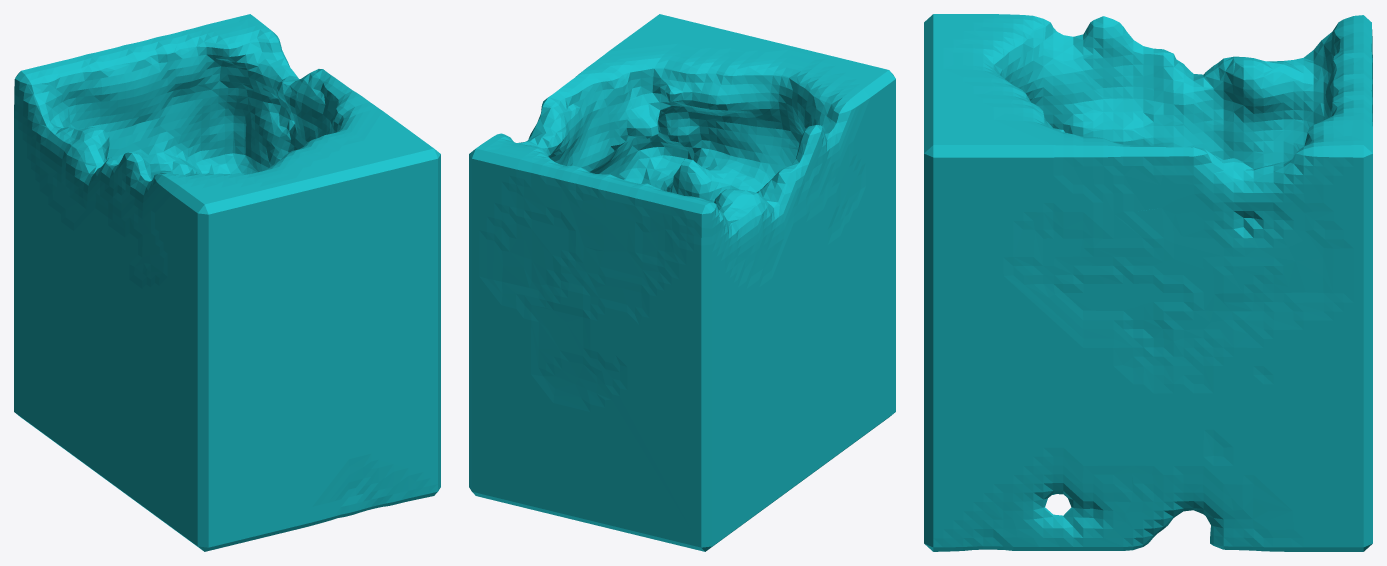
The picture shows the model from 3 angles, left to right: view 1: azimuth 30°, elevation 25°; view 2: azimuth 150°, elevation 25°; view 3: azimuth 270°, elevation 25°; orthographic projection. The views are drawn at different scales.
Parts seen in each view (by area): view 1: Liquid_Domain; view 2: Liquid_Domain; view 3: Liquid_Domain.
Boxes of the visible parts, x1=… form: Liquid_Domain: x1=14, y1=14, x2=440, y2=551; Liquid_Domain: x1=469, y1=14, x2=895, y2=551; Liquid_Domain: x1=924, y1=14, x2=1372, y2=551.
Size of the model in its own units: 79.09 by 108 by 108.
